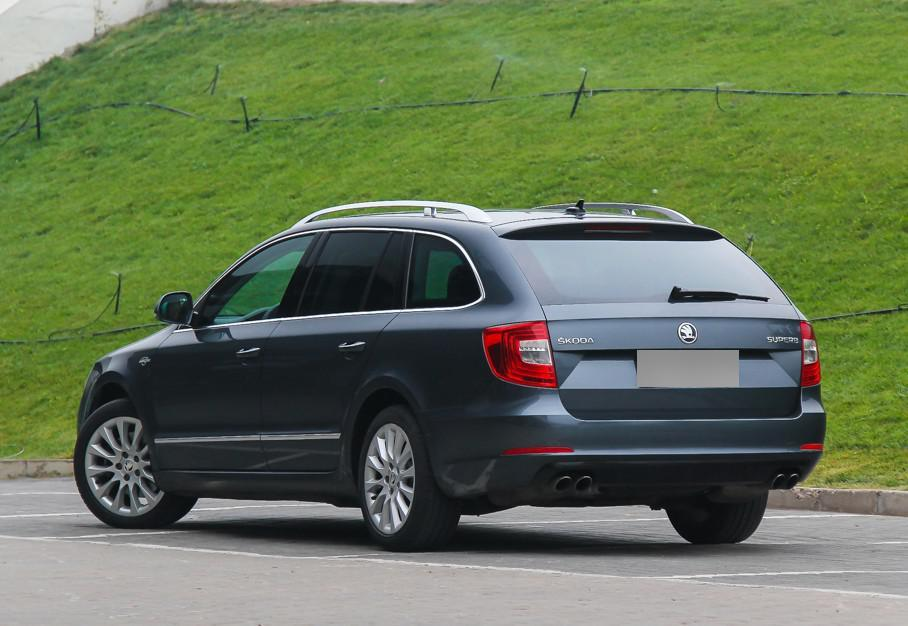Wagon: (74, 200, 825, 549)
